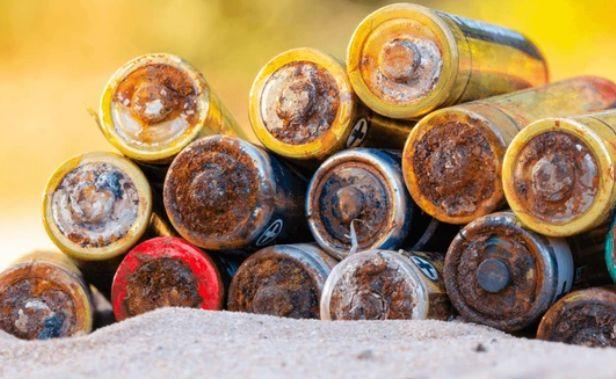battery: (405, 74, 616, 223), (346, 2, 550, 117), (91, 48, 247, 162), (249, 46, 407, 154), (166, 133, 294, 247), (504, 112, 616, 232), (445, 214, 563, 327), (42, 148, 155, 250), (306, 147, 414, 252), (319, 248, 453, 325), (111, 234, 226, 323), (0, 249, 94, 342), (231, 243, 325, 324), (541, 285, 616, 350)
